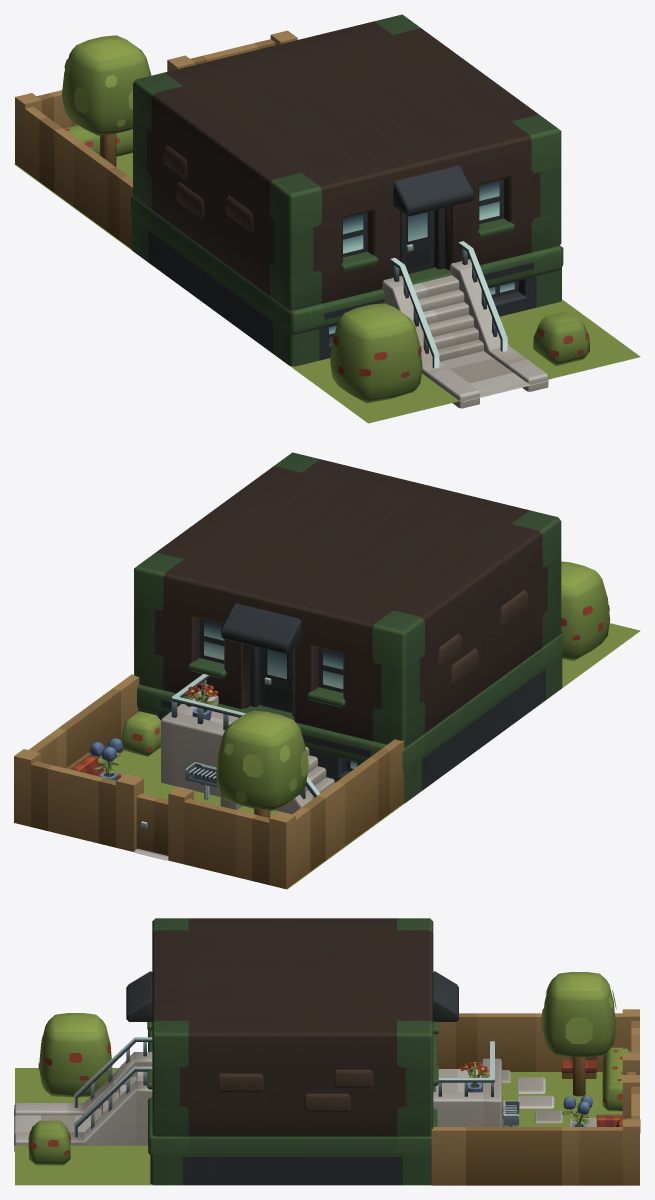
Rendered from appartment_type1_x4_ground_brown.fbx.
3 renders of one model, top to bottom at view 1: azimuth 30°, elevation 25°; view 2: azimuth 150°, elevation 25°; view 3: azimuth 270°, elevation 25°, orthographic. The views are drawn at different scales.
Parts seen in each view (by area): view 1: appartment_type1_x4_ground_brown, door_front_appartment_type1_x4_ground; view 2: appartment_type1_x4_ground_brown, door_back_appartment_type1_x4_ground, door_garden_appartment_type1_x4_ground; view 3: appartment_type1_x4_ground_brown.
Boxes of the visible parts, x1,y1,x2,y2 form: appartment_type1_x4_ground_brown: (14,14,640,423); door_front_appartment_type1_x4_ground: (402,210,434,273); appartment_type1_x4_ground_brown: (14,452,640,889); door_back_appartment_type1_x4_ground: (260,648,292,712); door_garden_appartment_type1_x4_ground: (136,793,168,855); appartment_type1_x4_ground_brown: (14,918,640,1185).
Bounding box in the file's own units: 819 × 501 × 1806.
